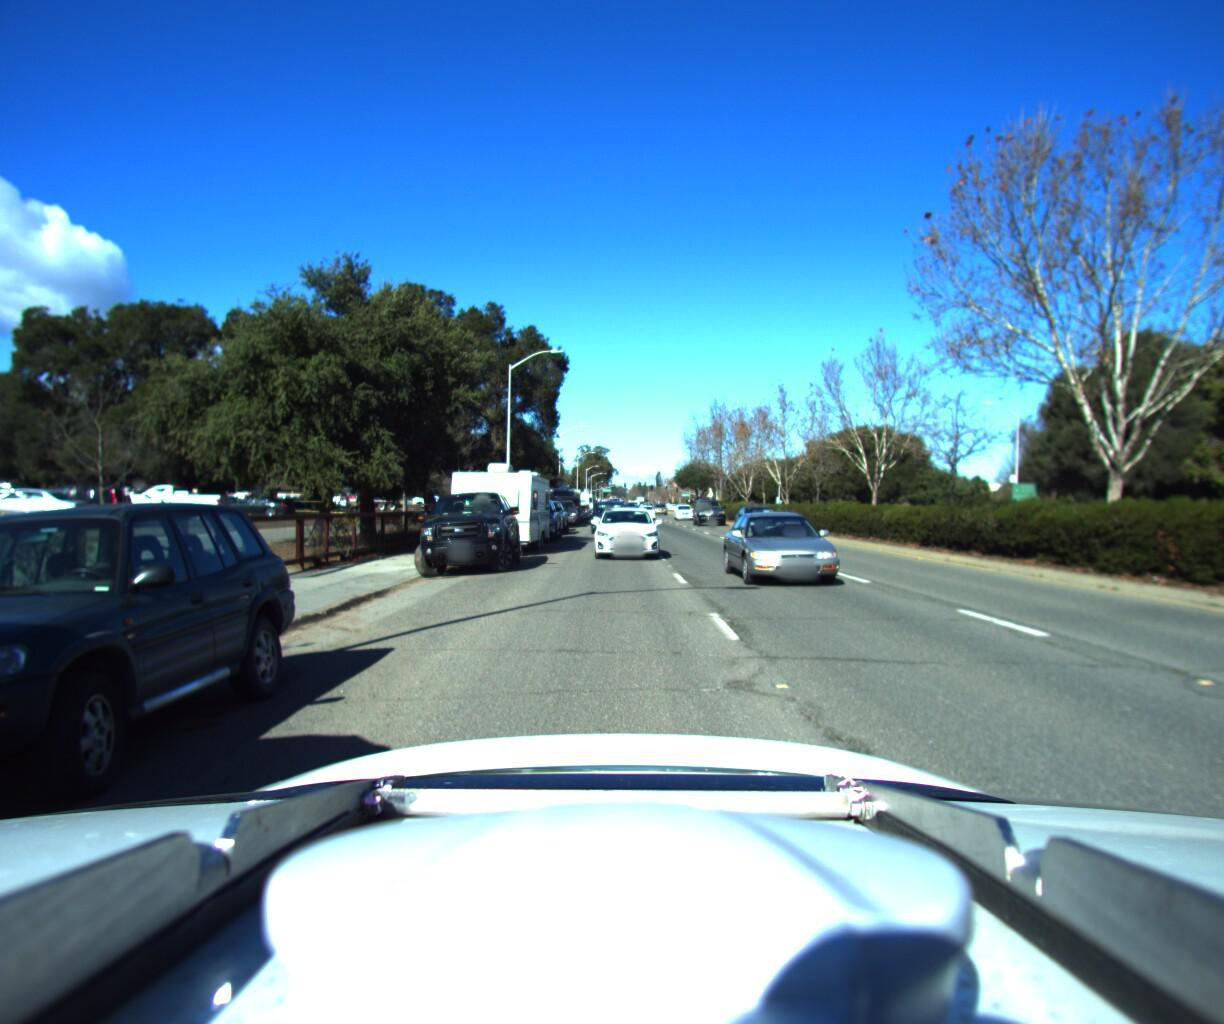car: (722, 500, 876, 595), (397, 481, 529, 579), (593, 497, 661, 555), (496, 489, 565, 538), (515, 491, 570, 530), (731, 496, 791, 531), (543, 489, 580, 521), (694, 496, 729, 518), (674, 494, 697, 513)
other_vehicle: (441, 455, 551, 556), (542, 474, 582, 518), (563, 484, 590, 513)
